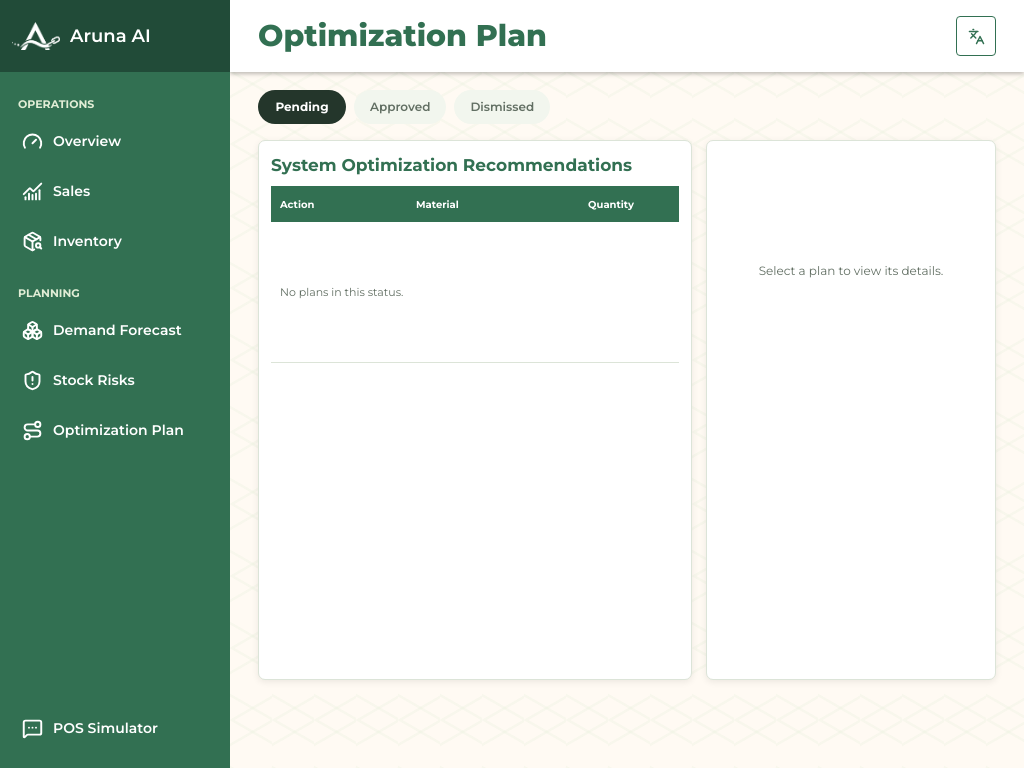
Test case: keeps old approved receipts accessible and takes facts from structured fields, not prose
The width and height of the screenshot is (1024, 768).
Check: the heading "System Optimization Recommendations" is shown, box [271,155,679,176]
Step 1. Click the tab "Approved" → (400, 107), box [354,90,446,124]
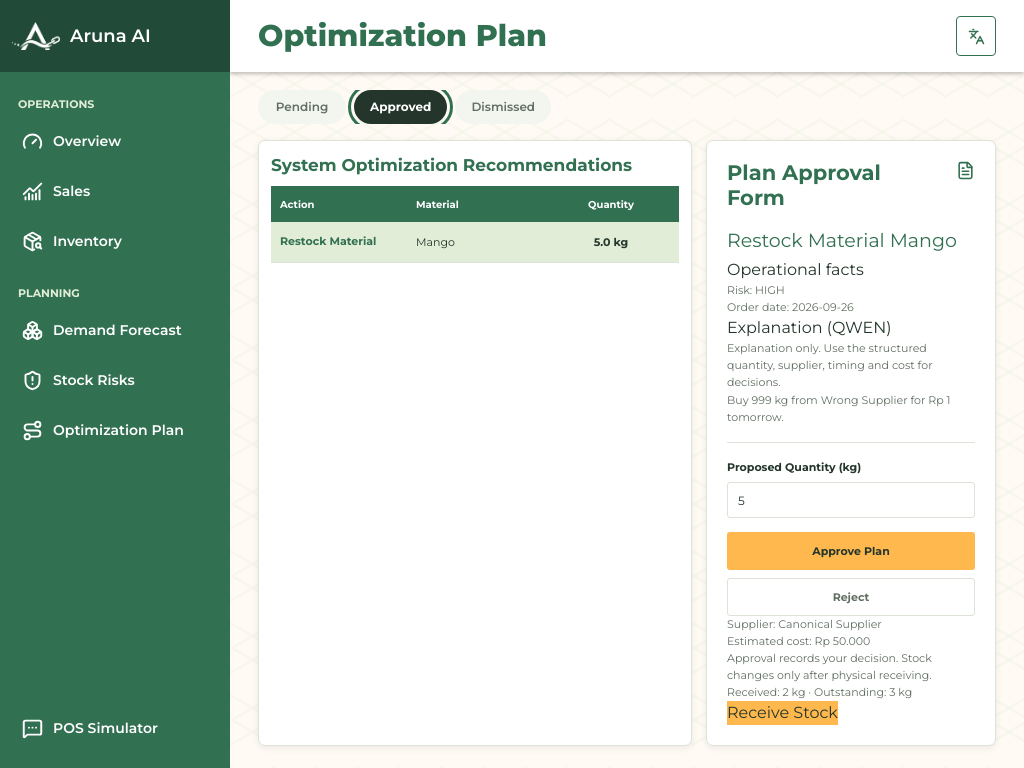
Check: the text "Risk: HIGH" is shown, box [727,283,785,297]
Check: the text "Order date: 2026-09-26" is shown, box [727,300,854,314]
Check: the text "Supplier: Canonical Supplier" is shown, box [727,617,882,631]
Step 2. Click the button "Receive Stock" → (782, 713), box [727,701,838,725]
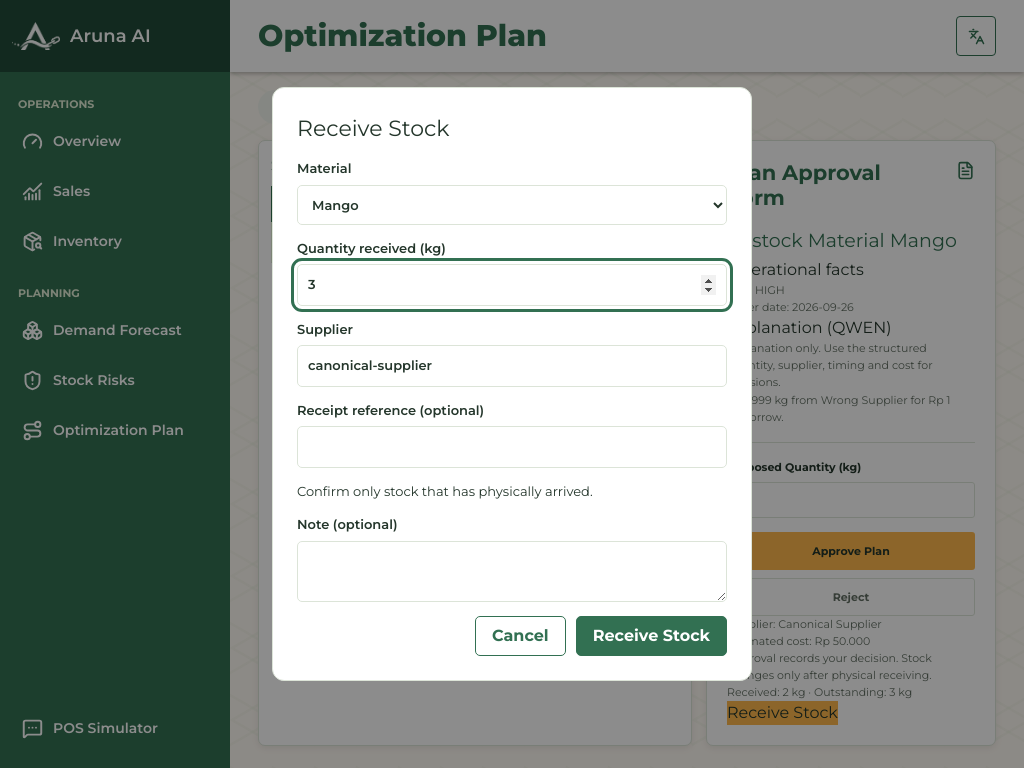
Check: the number field labelled "Quantity received (kg)" holds "3", box [297,264,727,306]
Check: the field labelled "Supplier" holds "canonical-supplier", box [297,345,727,387]
